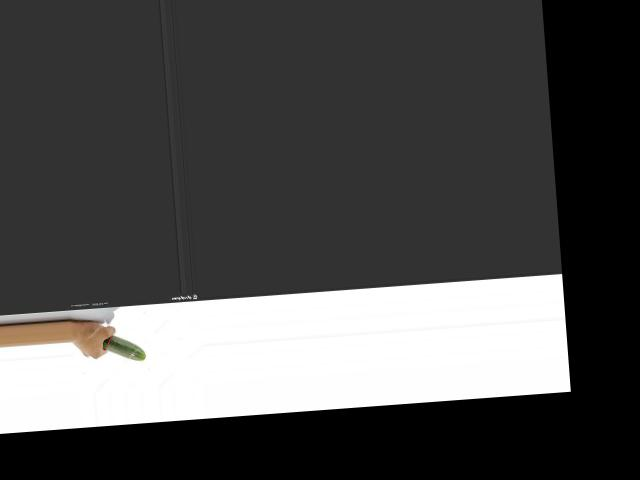cucumber: (101, 333, 145, 363)
